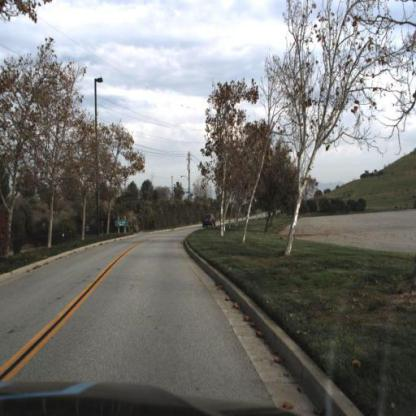car: (202, 210, 219, 229)
